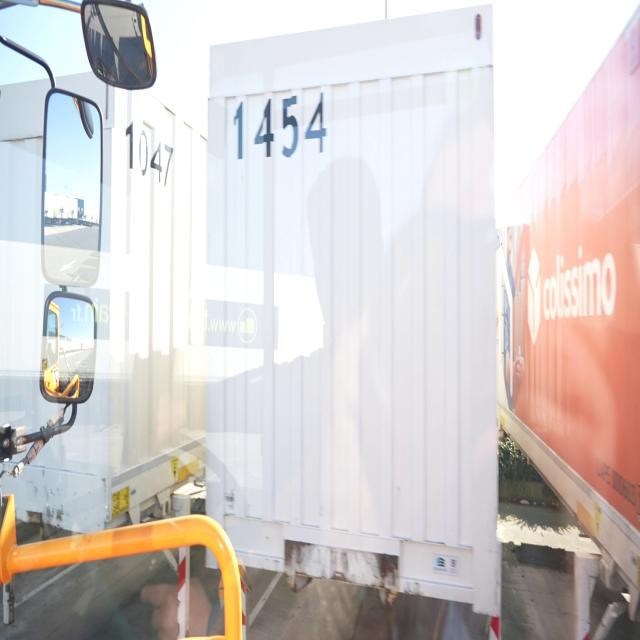Code: (230, 86, 333, 166)
